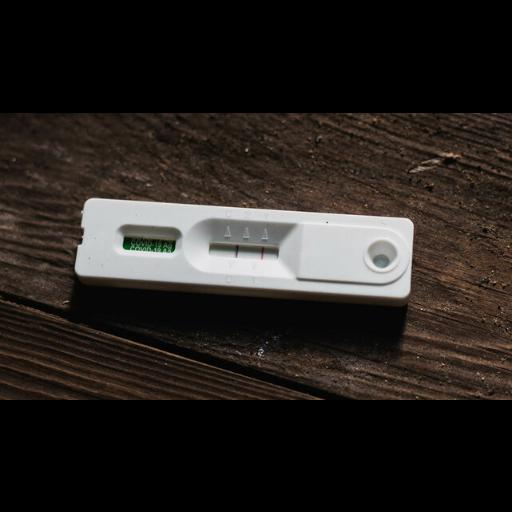Pos: (75, 197, 412, 298)
